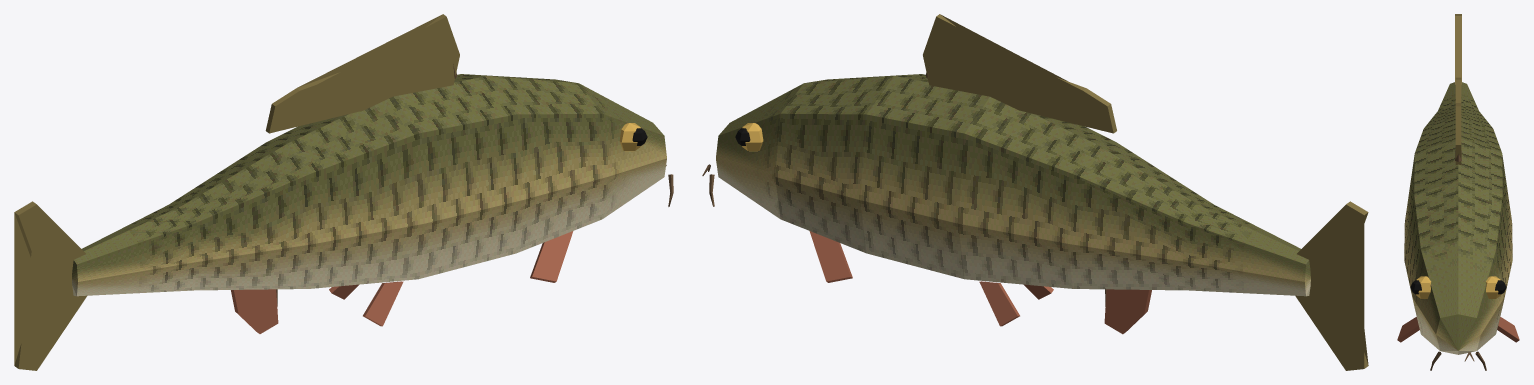
The model's file is carp.glb.
The picture shows the model from 3 angles, left to right: view 1: azimuth 30°, elevation 25°; view 2: azimuth 150°, elevation 25°; view 3: azimuth 270°, elevation 25°; orthographic projection. The views are drawn at different scales.
Parts seen in each view (by area): view 1: Fish_carp; view 2: Fish_carp; view 3: Fish_carp.
Boxes of the visible parts, x1,y1,x2,y2 form: Fish_carp: (14, 14, 673, 370); Fish_carp: (702, 14, 1368, 370); Fish_carp: (1397, 14, 1519, 370).
Bounding box in the file's own units: 1.07 × 0.4333 × 0.2166.
6 materials, 1 textured.
